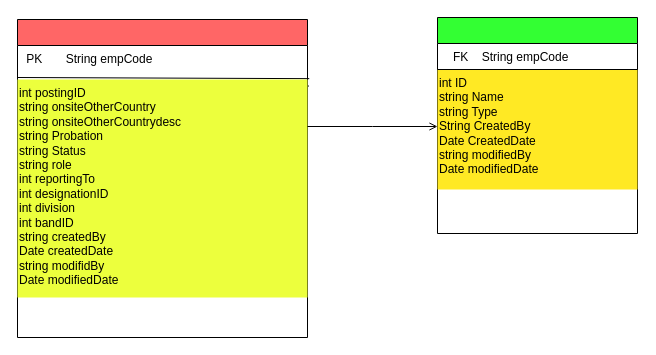
Image size: 656x355. Some labels were removed from this diagram. The box of each missing label's shape, as (x1, y1, x2, y2) in pixels:
Asset: (436, 16, 638, 234)
Employee: (16, 18, 308, 338)
